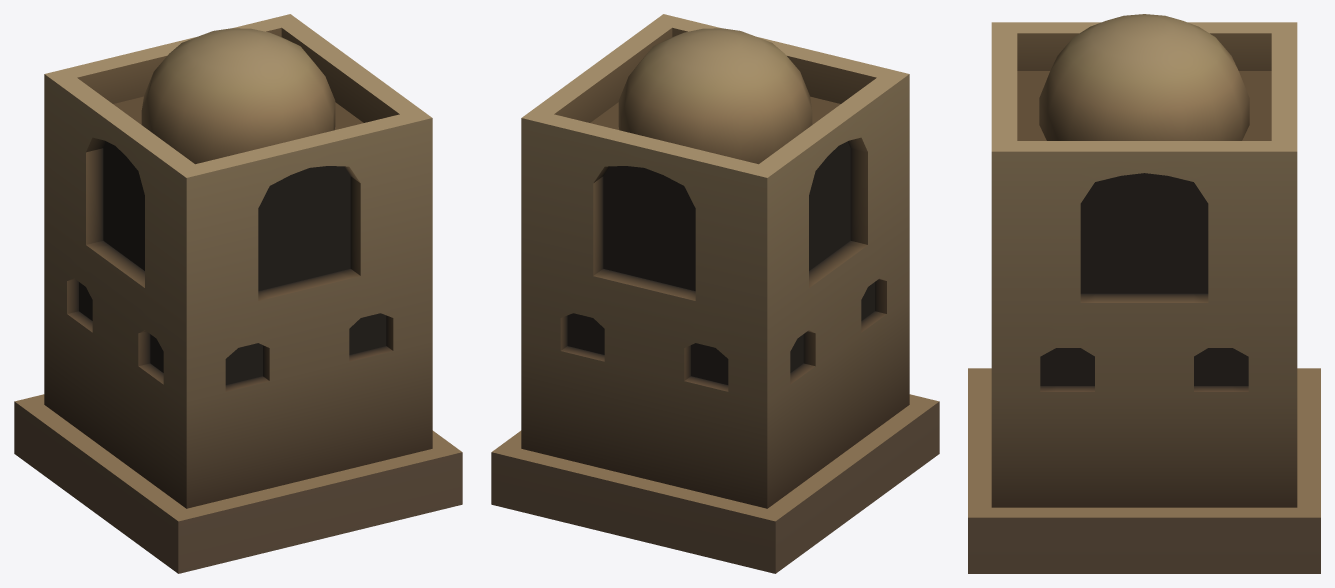
File: buildings-historical-desertbuildingold_v10.glb
3 views of the same model, side by side, from view 1: azimuth 30°, elevation 25°; view 2: azimuth 150°, elevation 25°; view 3: azimuth 270°, elevation 25° (orthographic). The views are drawn at different scales.
Visible parts, largest first — view 1: DesertBuildingOld_v10; view 2: DesertBuildingOld_v10; view 3: DesertBuildingOld_v10.
Part boxes in pixels (x1,y1,x2,y2): DesertBuildingOld_v10: [14, 14, 462, 573]; DesertBuildingOld_v10: [491, 14, 939, 573]; DesertBuildingOld_v10: [968, 14, 1320, 573].
Size of the model in its own units: 9.55 by 14.13 by 9.55.
